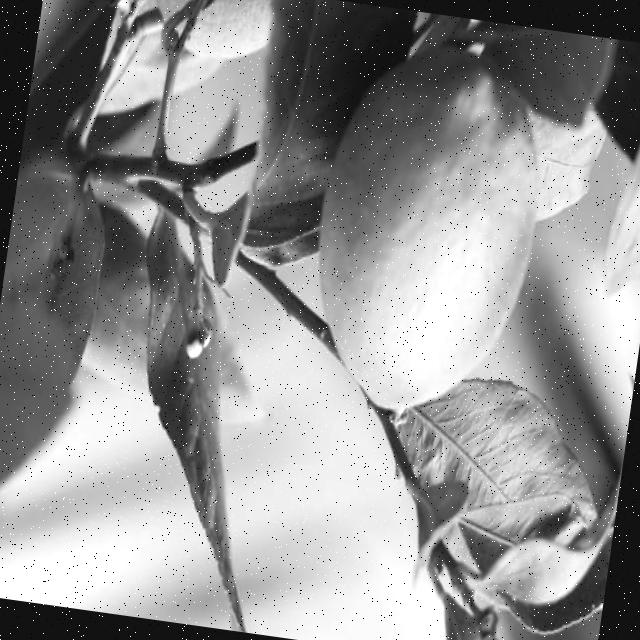Unripe: (292, 28, 558, 430)
